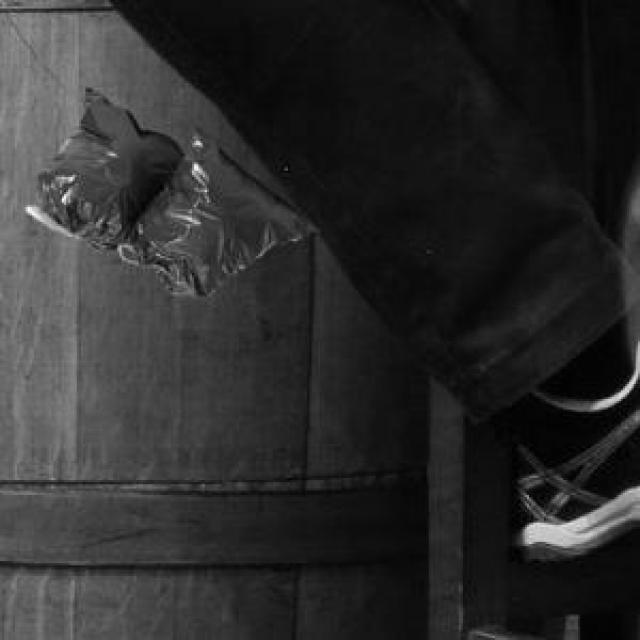miscellaneous trash: (22, 83, 314, 292)
